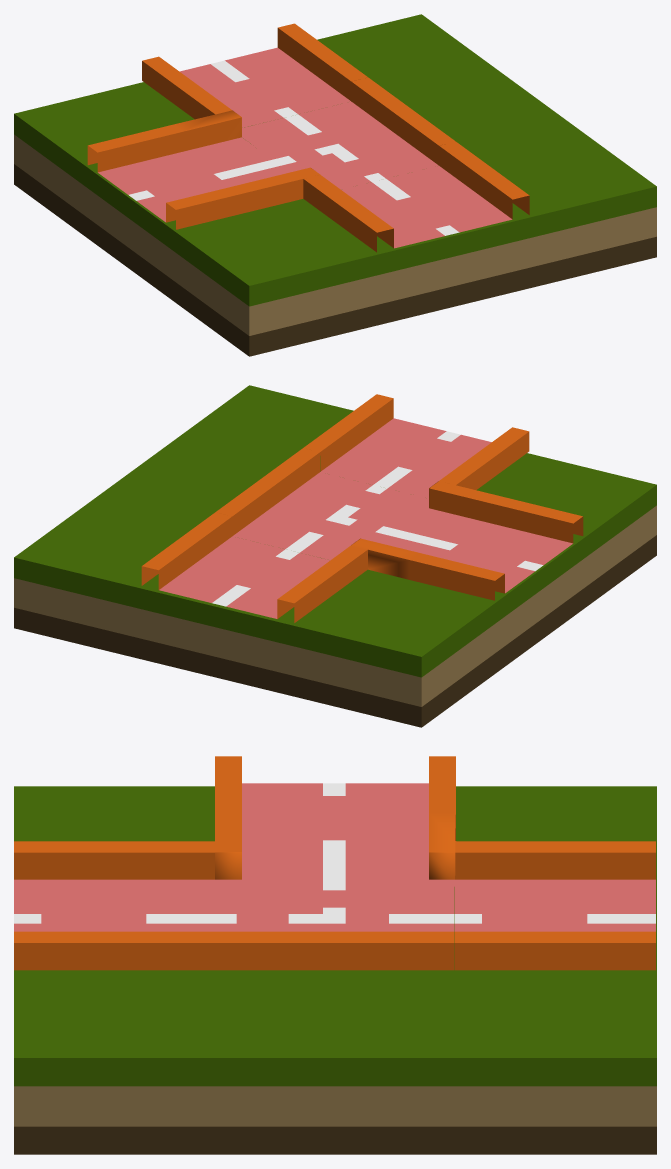
File: bothways bike road.fbx
3 views of the same model, one above another, from view 1: azimuth 30°, elevation 25°; view 2: azimuth 150°, elevation 25°; view 3: azimuth 270°, elevation 25° (orthographic). The views are drawn at different scales.
Visible parts, largest first — view 1: Plane.001; view 2: Plane.001; view 3: Plane.001.
Boxes of the visible parts, box(x1,y1,x2,y2) form: Plane.001: box(14, 14, 656, 356); Plane.001: box(14, 385, 656, 727); Plane.001: box(14, 756, 656, 1154).
Size of the model in its own units: 200 by 43.47 by 200.
